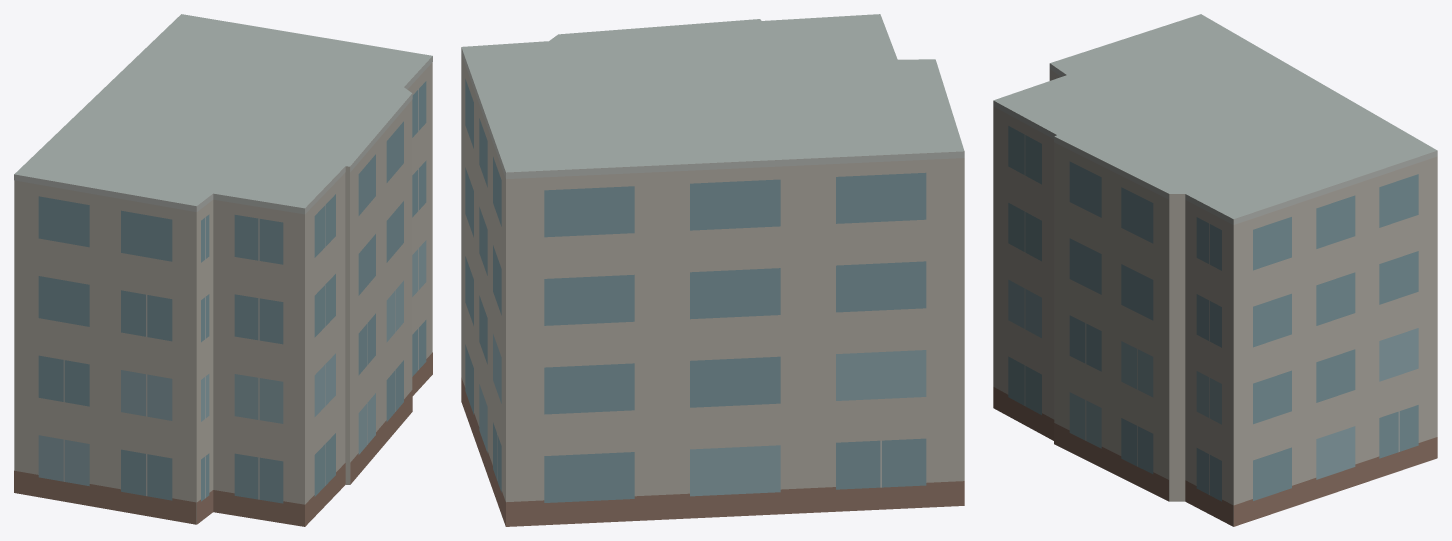
File: survey-upis-32949167.glb
3 views of the same model, side by side, from view 1: azimuth 30°, elevation 25°; view 2: azimuth 150°, elevation 25°; view 3: azimuth 270°, elevation 25° (orthographic). The views are drawn at different scales.
Parts seen in each view (by area): view 1: survey-upis-32949167.tmp; view 2: survey-upis-32949167.tmp; view 3: survey-upis-32949167.tmp.
Boxes of the visible parts, x1,y1,x2,y2 form: survey-upis-32949167.tmp: (14,14,432,526); survey-upis-32949167.tmp: (461,14,964,526); survey-upis-32949167.tmp: (993,14,1437,526).
Bounding box in the file's own units: 18.47 × 12.9 × 16.9.
